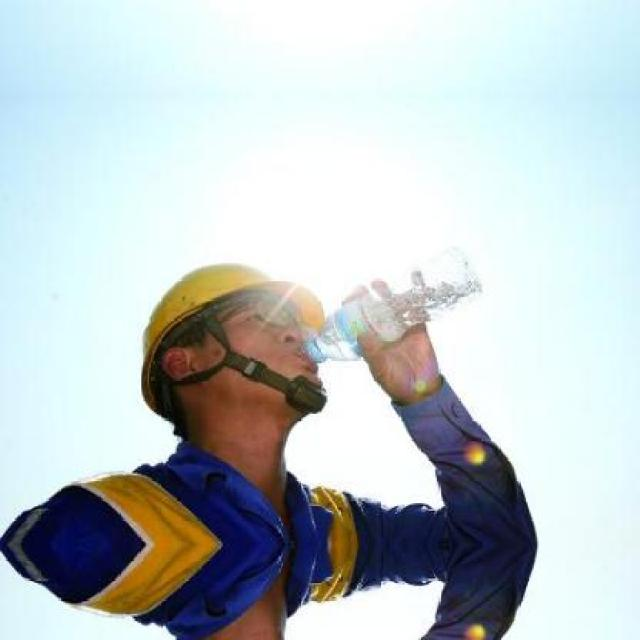helmet: (114, 231, 351, 471)
